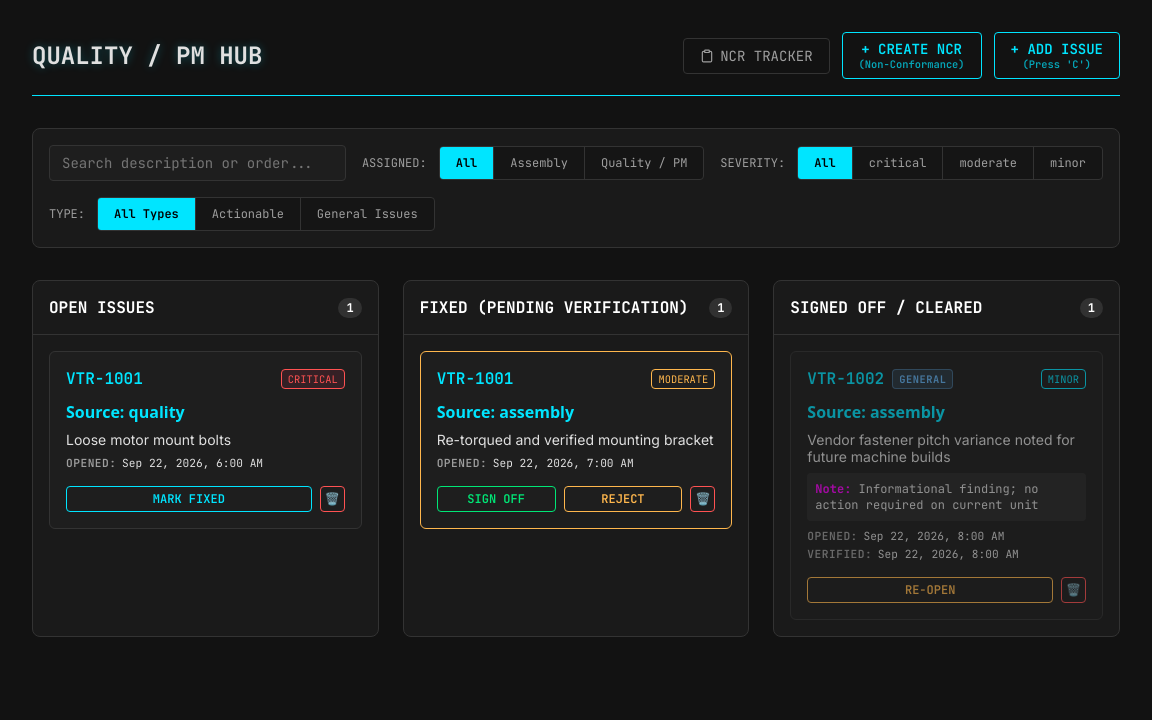
Scenario: QualityResolutionHub Component › filters issues by classification type (Actionable vs General Issues)
Expected: the text "Loose motor mount bolts" is shown, [66, 431, 231, 448]
Expected: the text "Vendor fastener pitch variance noted for future machine builds" is shown, [807, 431, 1086, 465]
Note: Click "General Issues" filter button
Click the radio button labelled "General Issues": (367, 214) [301, 198, 434, 230]
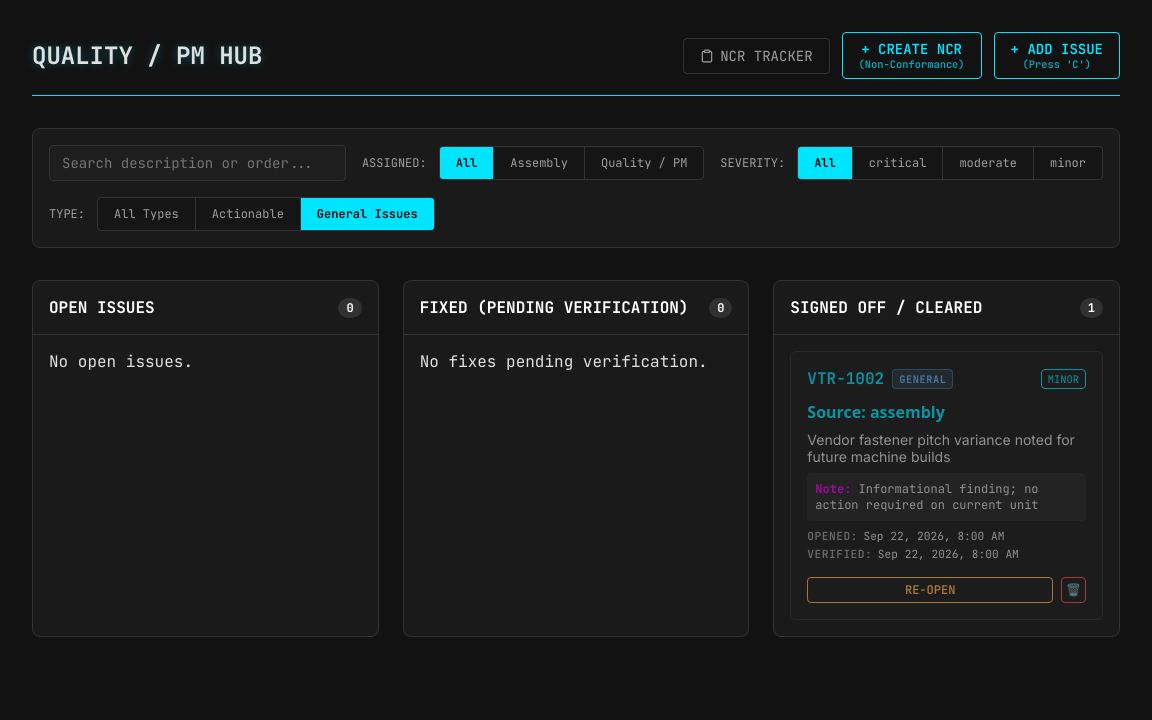
Expected: the text "Vendor fastener pitch variance noted for future machine builds" is shown, [807, 431, 1086, 465]
Now the text "Loose motor mount bolts" is gone
Note: Click "Actionable" filter button
Click the radio button labelled "Actionable": (248, 214) [196, 198, 301, 230]
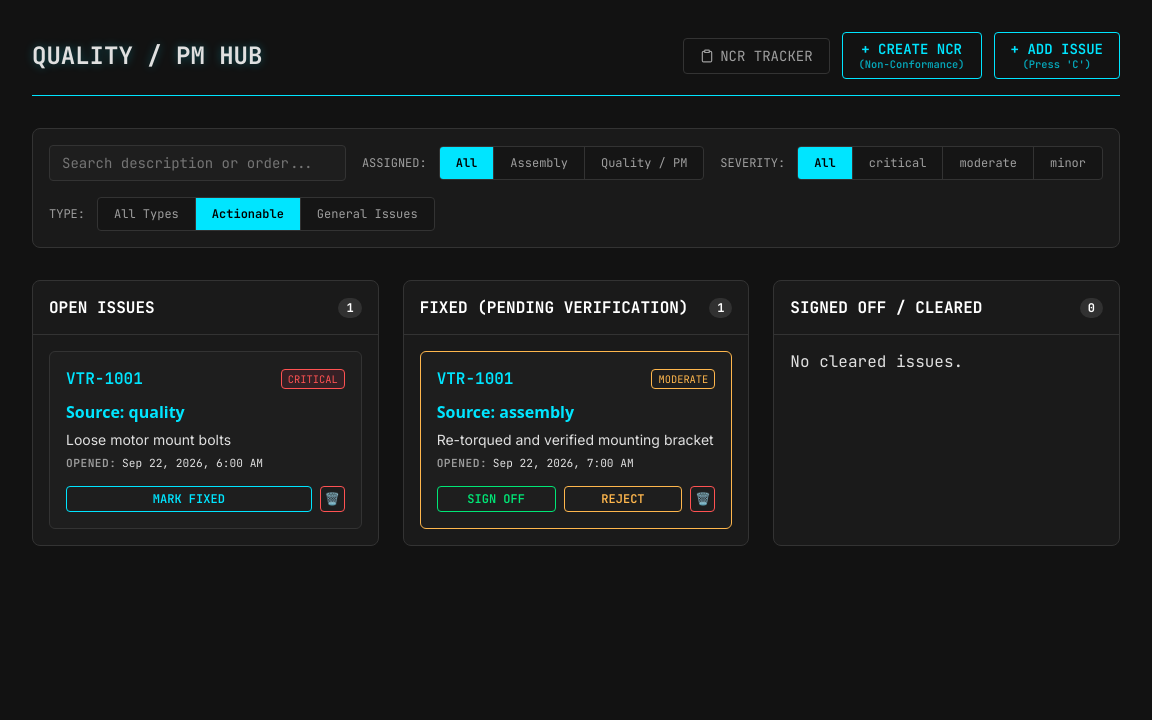
Now the text "Loose motor mount bolts" is shown, box [66, 431, 231, 448]
Now the text "Vendor fastener pitch variance noted for future machine builds" is gone
